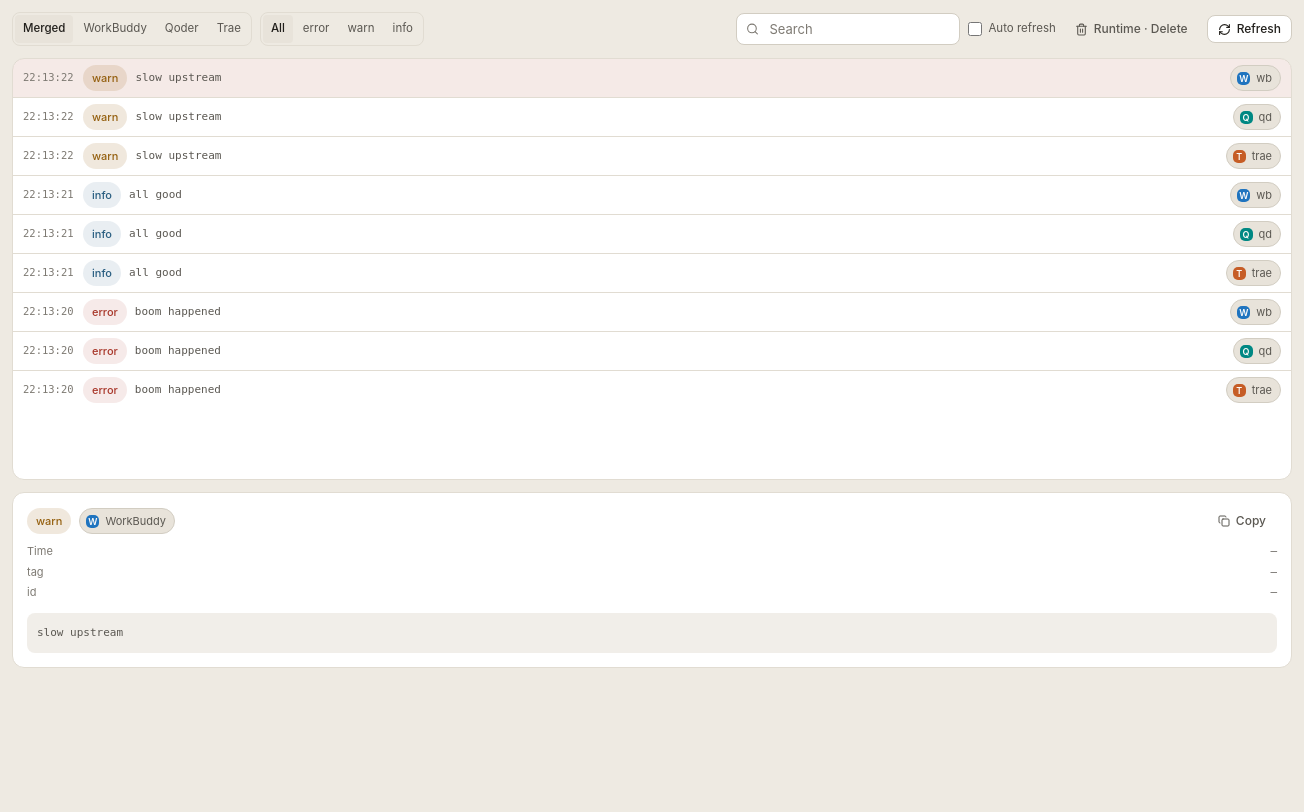
Scenario: LogsView › 级别筛选只留 error
Check: the text "all good" is shown 3 times, box x1=129 y1=188 x2=182 y2=201; x1=129 y1=227 x2=182 y2=240; x1=129 y1=266 x2=182 y2=279
What coordinates should you click on to do the following:
click the tab "error"
I would click on:
 (316, 29)
Its box is x1=295 y1=15 x2=337 y2=43.
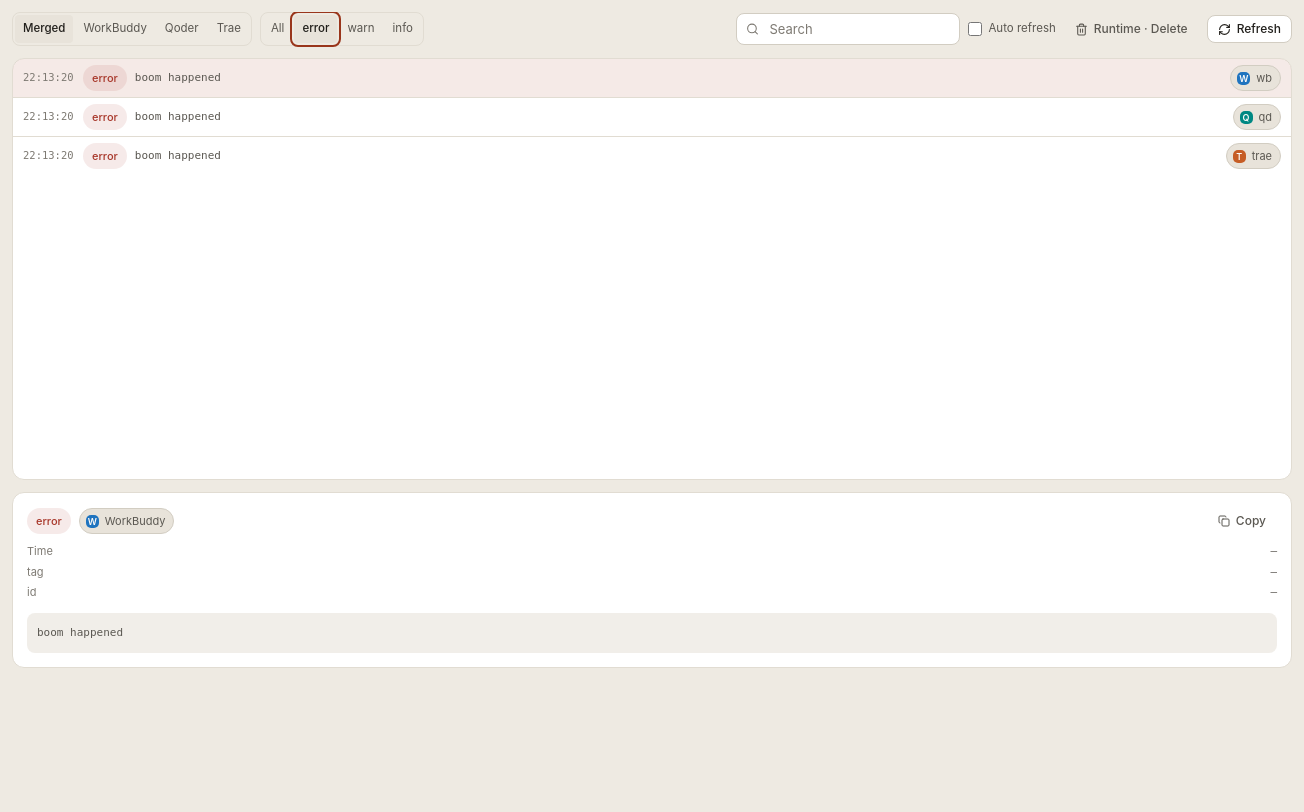
Check: no buttons "all good" are shown
